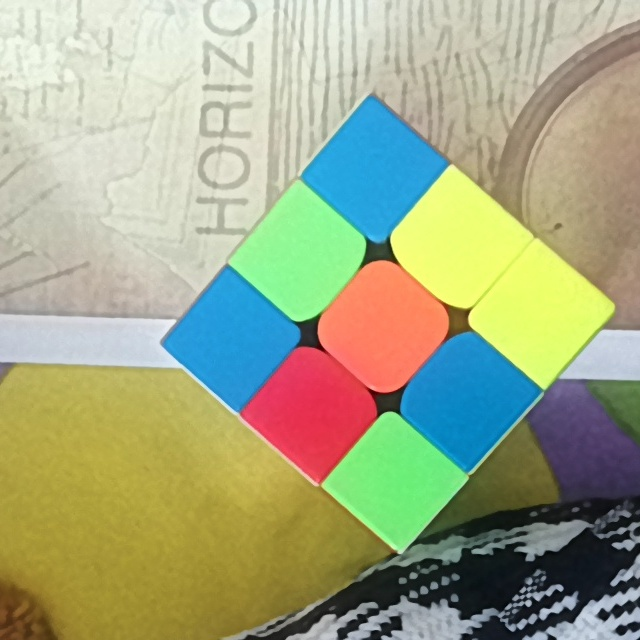tile: (506, 272, 581, 347), (349, 285, 423, 359), (430, 361, 504, 435), (333, 139, 410, 209), (196, 303, 266, 379), (263, 221, 338, 290), (421, 204, 495, 273), (275, 378, 350, 445), (360, 446, 431, 515)
